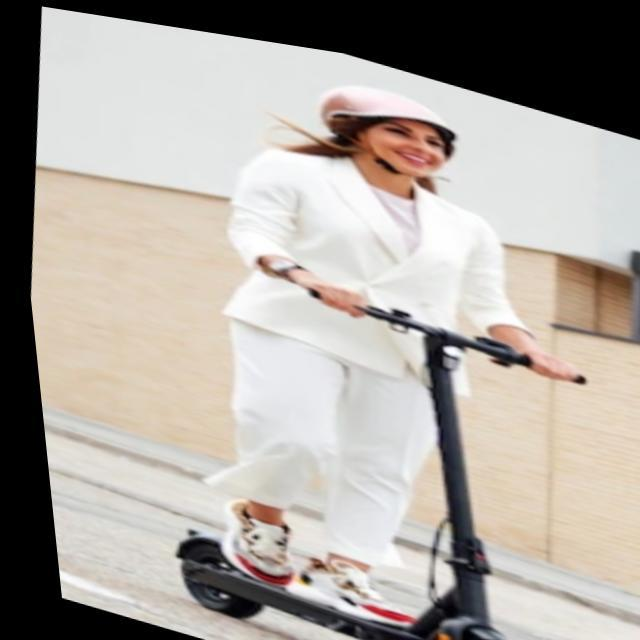Helmet: (307, 68, 463, 194)
